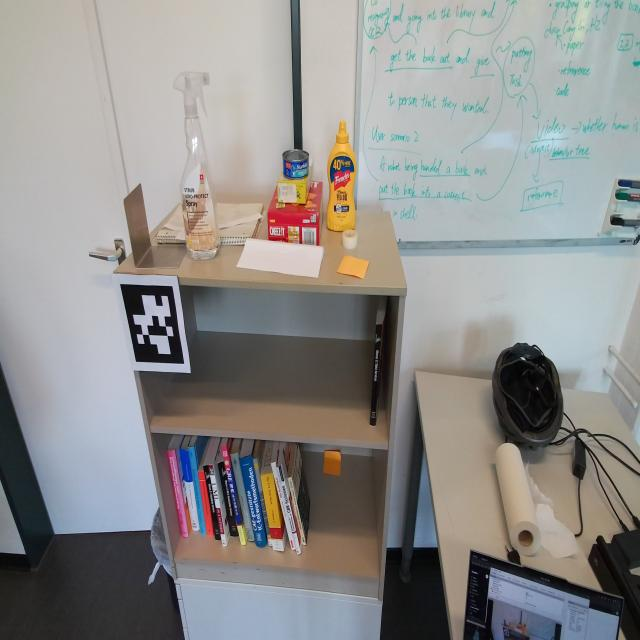Book Spine: (239, 454, 267, 547), (221, 446, 246, 545), (276, 465, 301, 555), (230, 452, 255, 541), (271, 462, 296, 550), (167, 449, 189, 537), (261, 473, 284, 552), (253, 457, 272, 546), (180, 448, 200, 531), (188, 445, 206, 535), (208, 464, 227, 547), (218, 462, 238, 536), (203, 465, 221, 540), (370, 324, 382, 426), (288, 477, 306, 545), (198, 471, 214, 535)
